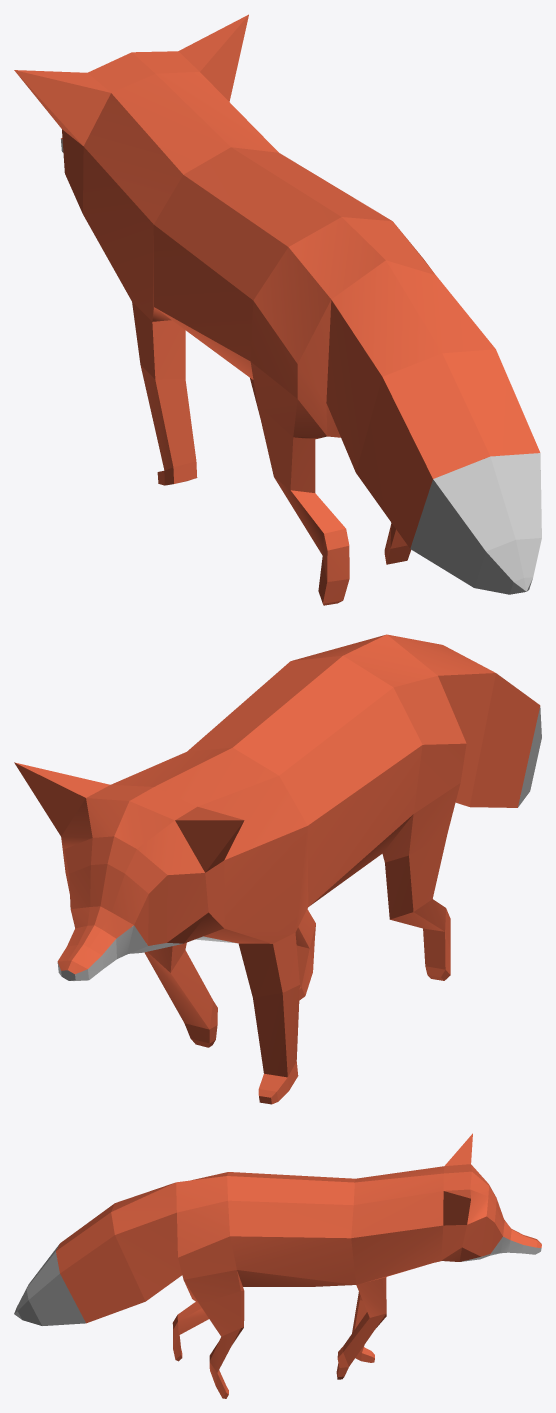
File: bete-red-fox.glb
3 renders of one model, top to bottom at view 1: azimuth 30°, elevation 25°; view 2: azimuth 150°, elevation 25°; view 3: azimuth 270°, elevation 25°, orthographic. The views are drawn at different scales.
Parts seen in each view (by area): view 1: Cylinder_1, Cylinder_2; view 2: Cylinder_1, Cylinder_2; view 3: Cylinder_1, Cylinder_2.
Boxes of the visible parts, x1=… form: Cylinder_1: x1=14, y1=14, x2=540, y2=605; Cylinder_2: x1=61, y1=139, x2=541, y2=594; Cylinder_1: x1=14, y1=634, x2=540, y2=1104; Cylinder_2: x1=57, y1=707, x2=541, y2=980; Cylinder_1: x1=56, y1=1133, x2=541, y2=1398; Cylinder_2: x1=14, y1=1236, x2=541, y2=1325.
Size of the model in its own units: 0.3359 by 0.5185 by 1.14.
